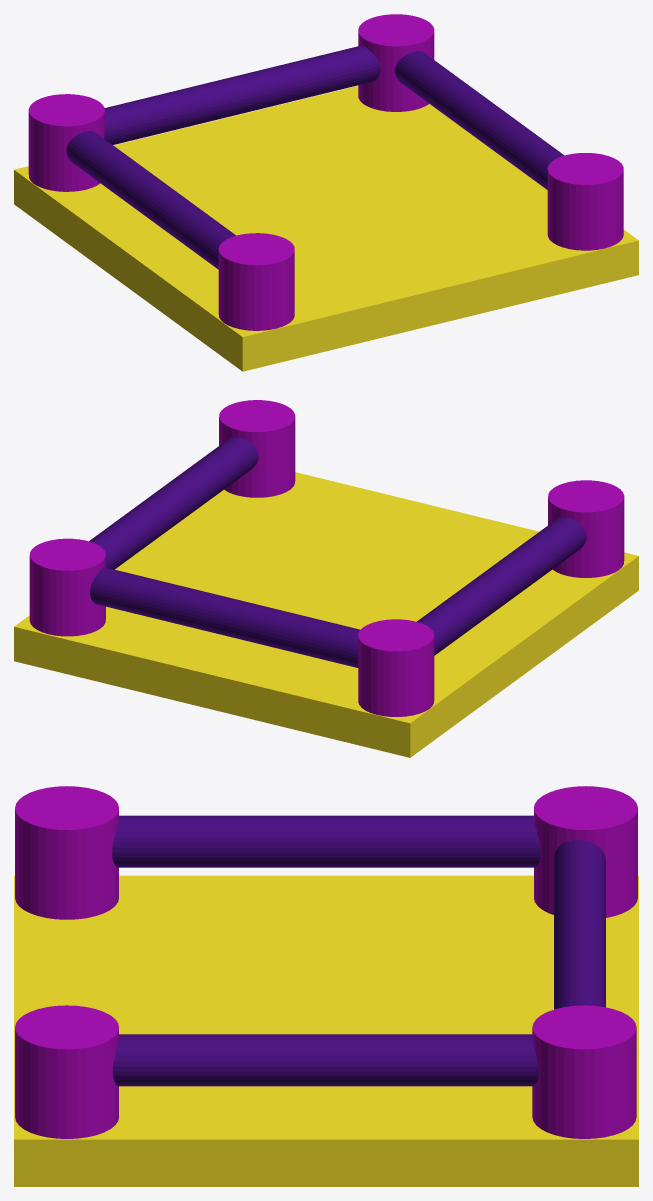
File: Inicio.fbx
3 renders of one model, top to bottom at view 1: azimuth 30°, elevation 25°; view 2: azimuth 150°, elevation 25°; view 3: azimuth 270°, elevation 25°, orthographic. The views are drawn at different scales.
Visible parts, largest first — view 1: Cylinder; view 2: Cylinder; view 3: Cylinder.
Part boxes in pixels (<box>): Cylinder: <box>14,14,638,371</box>; Cylinder: <box>14,400,638,757</box>; Cylinder: <box>14,786,638,1186</box>.
Bounding box in the file's own units: 600 × 145 × 600.
Materials: 1 (1 with a texture image).
